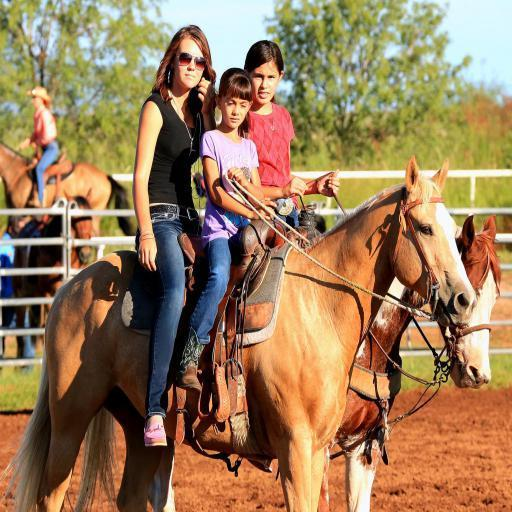horse: (0, 156, 476, 512), (148, 210, 504, 512), (0, 140, 140, 269), (8, 190, 92, 368)
